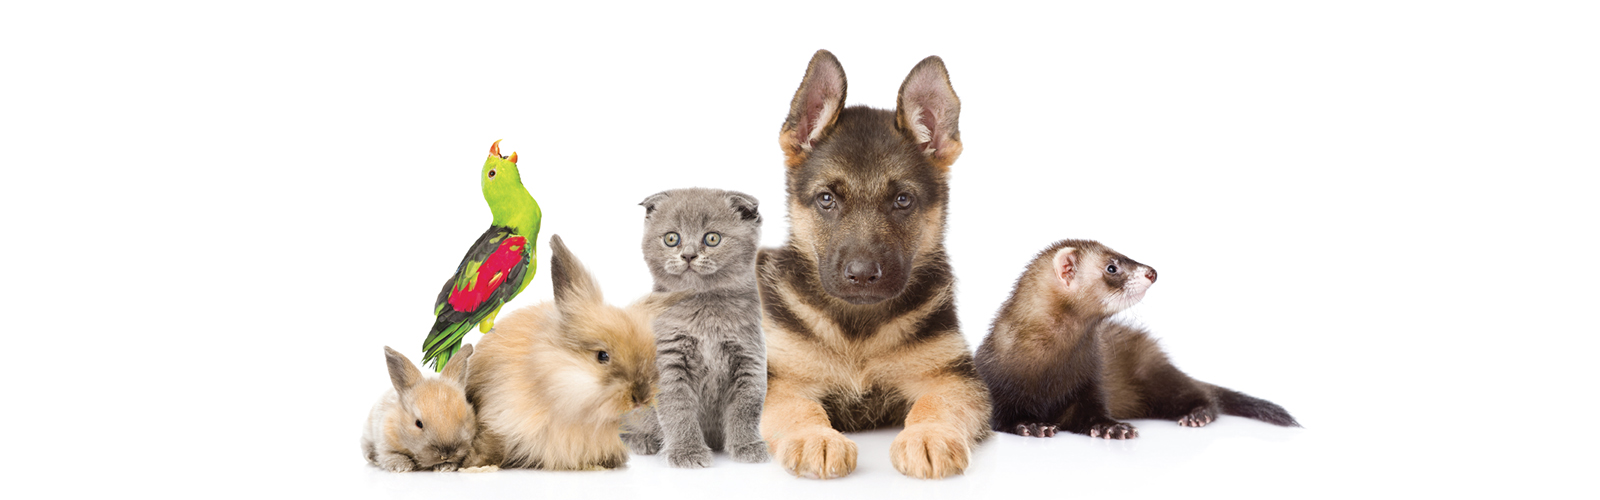pet: (755, 71, 979, 476)
